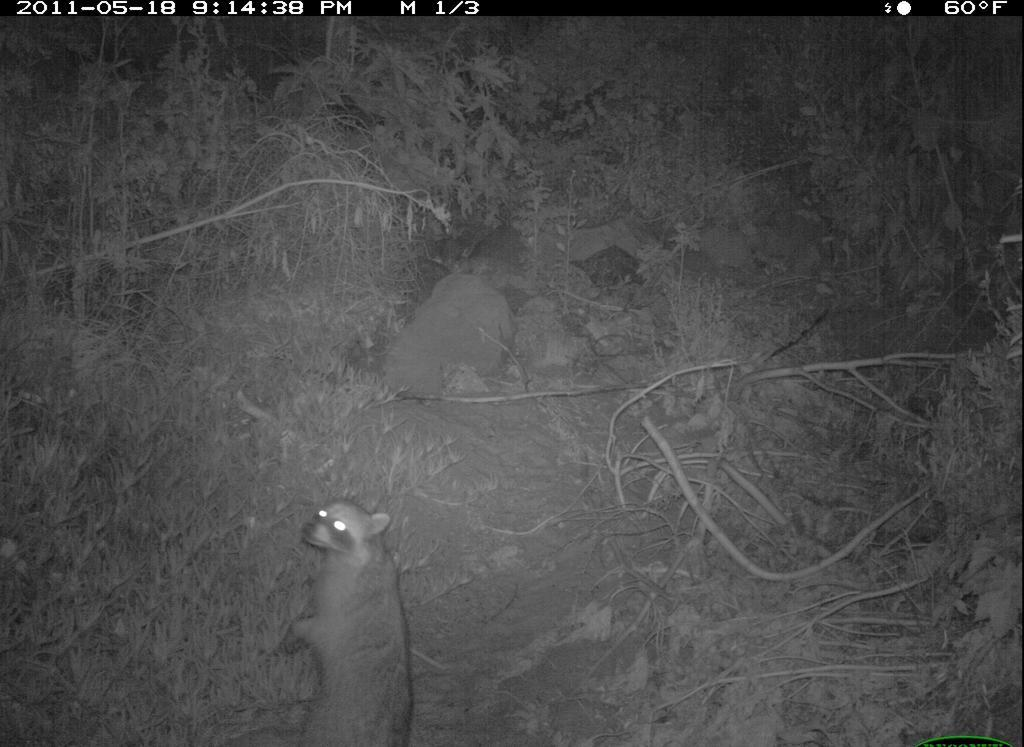raccoon: (267, 487, 429, 747)
